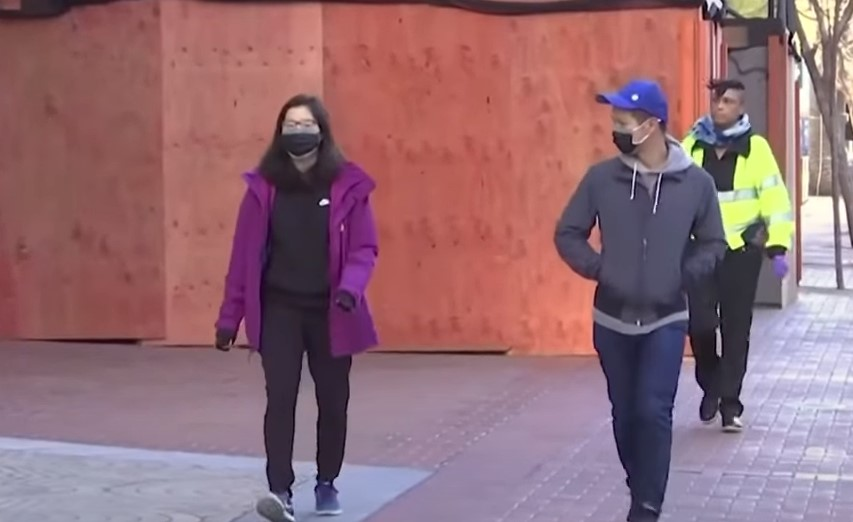face_no_mask: (711, 82, 746, 123)
face_with_mask: (595, 80, 668, 156), (278, 95, 324, 158)
